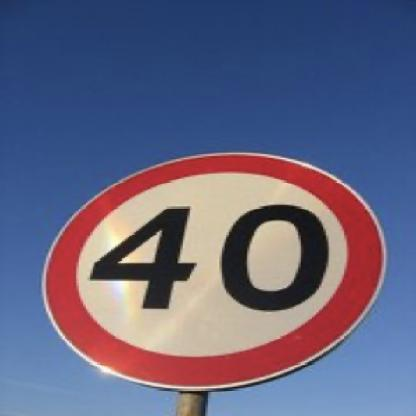Speed Limit 40: (43, 151, 385, 386)
